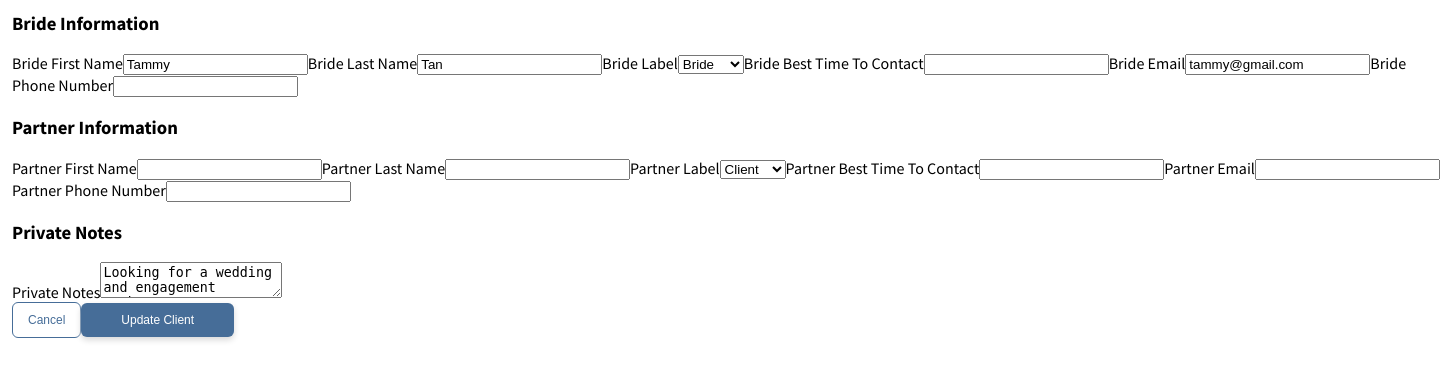
Test case: Update Client Form › email must be formatted correctly
This screenshot has width=1452, height=379.
Replace the text in the field labelled "Bride Email" with "bride@mail" at {"x": 1278, "y": 65}, box [1185,54,1370,75]
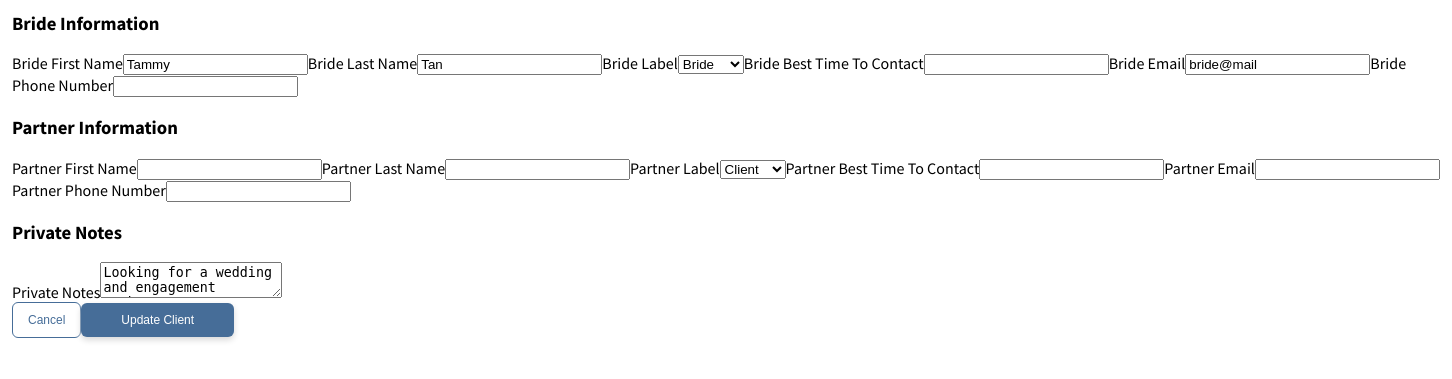
Leave the field labelled "Bride Email", box [1185,54,1370,75]
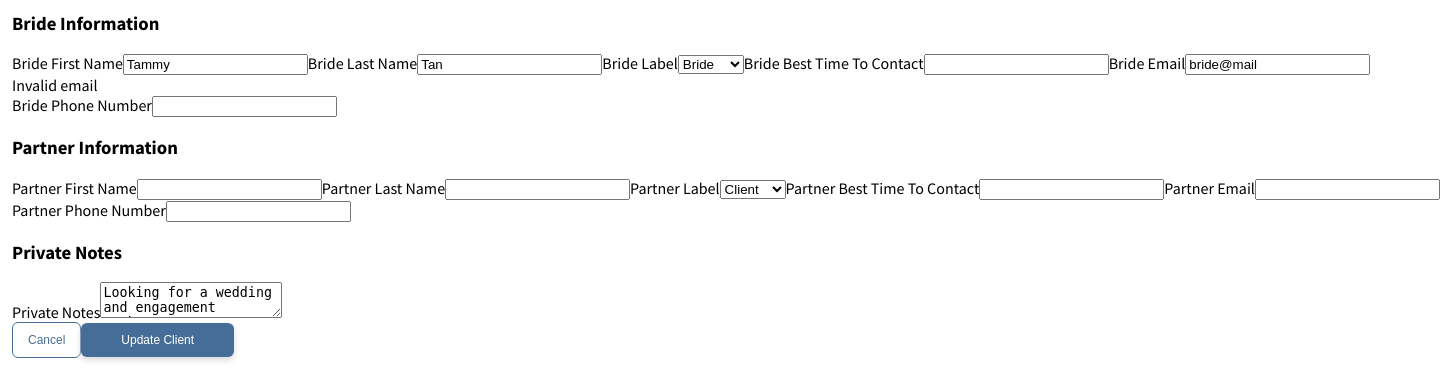
expect the text "Invalid email" is shown: met, box [12,75,98,95]
